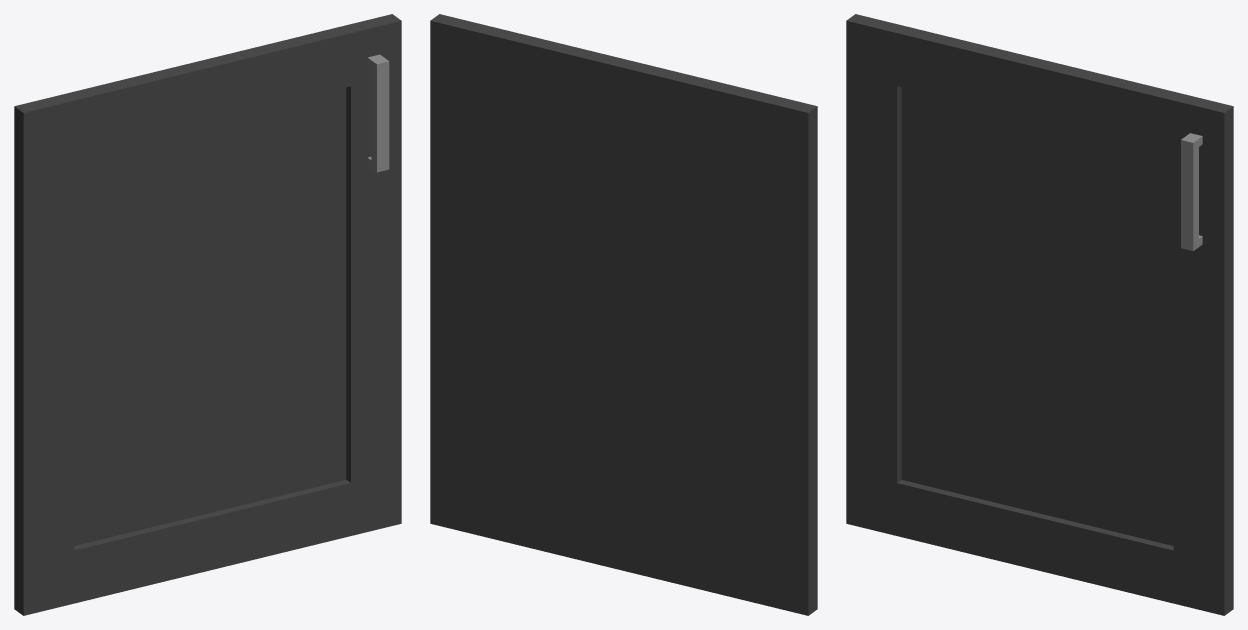
File: Door2_C3_02.fbx
The picture shows the model from 3 angles, left to right: view 1: azimuth 30°, elevation 25°; view 2: azimuth 150°, elevation 25°; view 3: azimuth 330°, elevation 25°; orthographic projection.
Parts seen in each view (by area): view 1: Door2_C3_02; view 2: Door2_C3_02; view 3: Door2_C3_02.
Boxes of the visible parts, x1,y1,x2,y2 form: Door2_C3_02: (14,14,401,615); Door2_C3_02: (430,14,817,615); Door2_C3_02: (846,14,1233,615).
Size of the model in its own units: 59 by 75 by 5.03.
